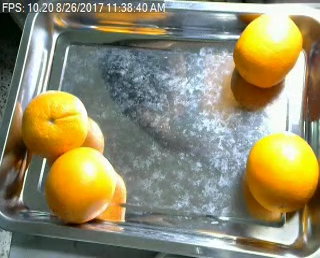Orange: (246, 132, 320, 214), (45, 146, 116, 222), (235, 12, 303, 87), (21, 89, 87, 157)
